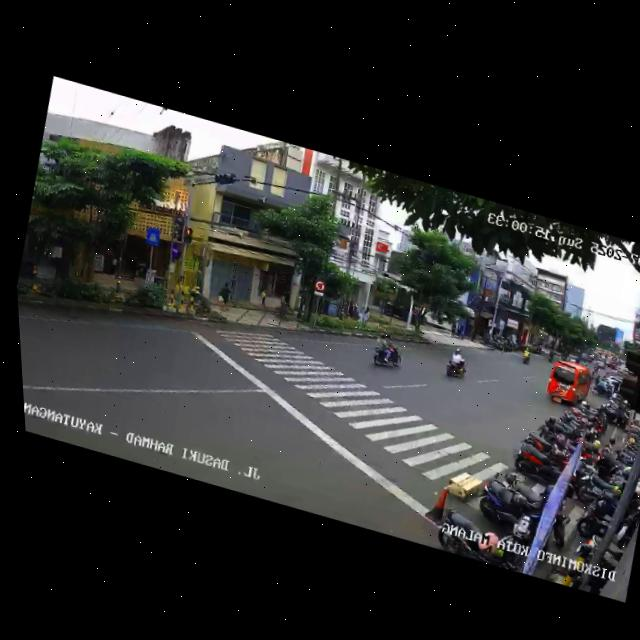car: (542, 356, 595, 413)
motorcycle: (367, 331, 406, 374), (441, 345, 471, 384)
